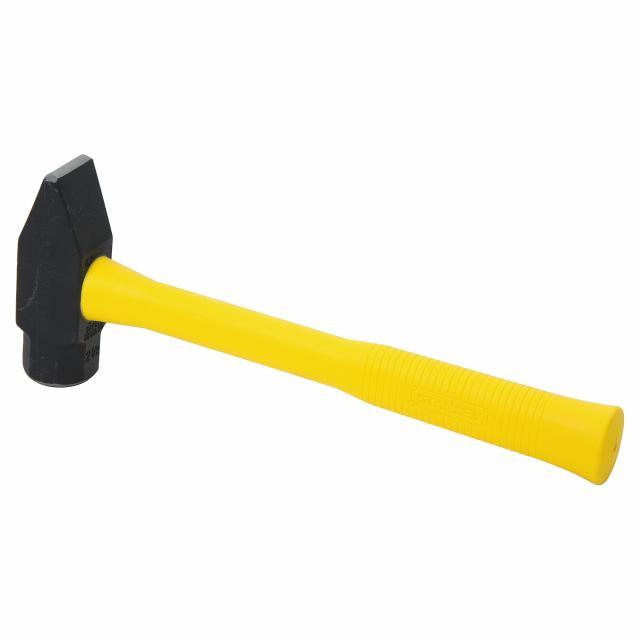hammer: (9, 150, 634, 493)
